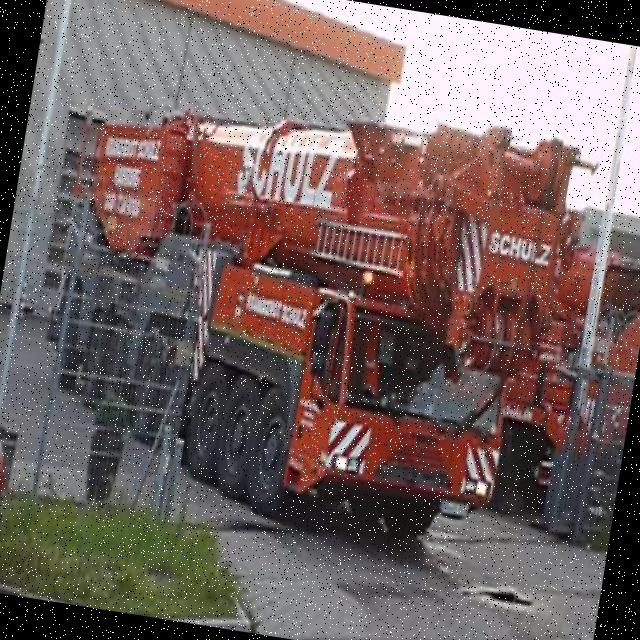Mobile Crane: (24, 71, 582, 568)
